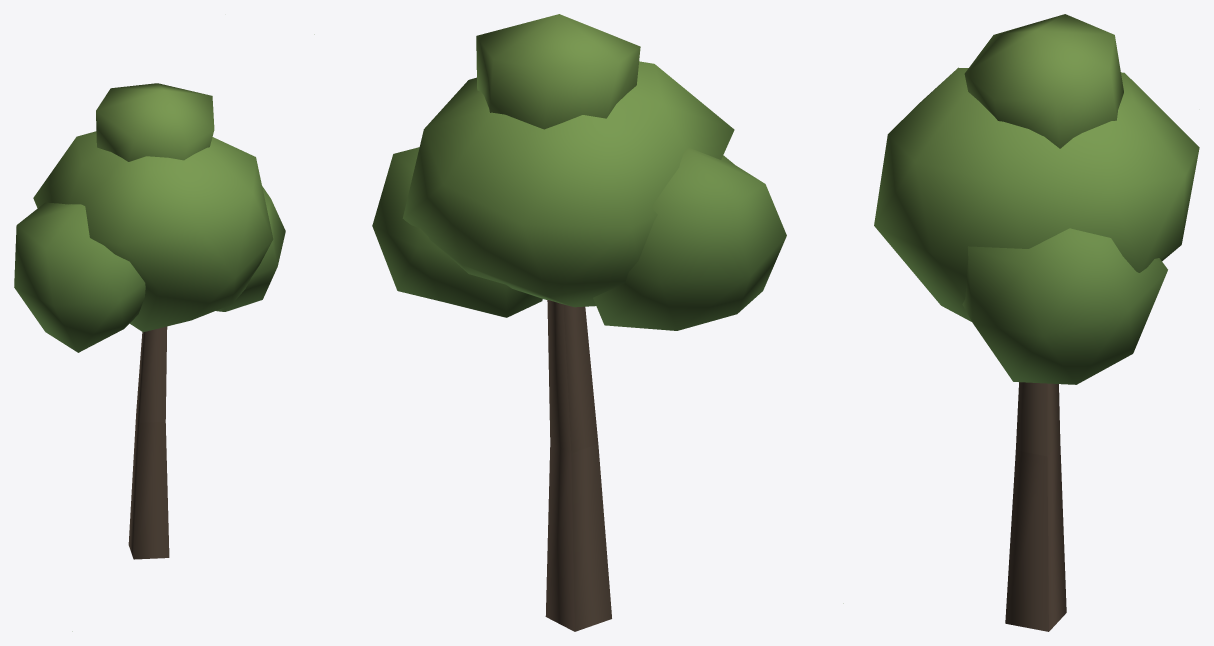
File: FarLeafy1_leaf.glb
The picture shows the model from 3 angles, left to right: view 1: azimuth 30°, elevation 25°; view 2: azimuth 150°, elevation 25°; view 3: azimuth 270°, elevation 25°; orthographic projection. The views are drawn at different scales.
Parts seen in each view (by area): view 1: FarLeafy1_leaf; view 2: FarLeafy1_leaf; view 3: FarLeafy1_leaf.
Part boxes in pixels (bbox=[...]): FarLeafy1_leaf: bbox=[14, 83, 285, 631]; FarLeafy1_leaf: bbox=[314, 14, 843, 631]; FarLeafy1_leaf: bbox=[874, 14, 1199, 631].
Bounding box in the file's own units: 10.08 × 15.82 × 7.85.
